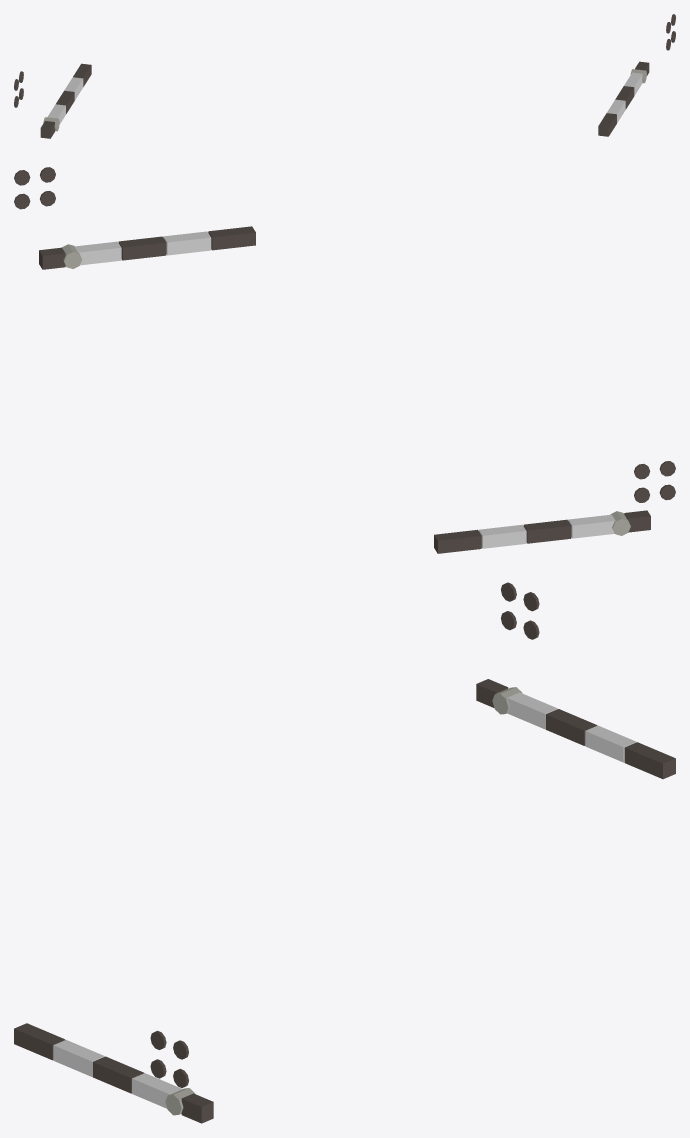
The model's file is SM_PasoNivel_45_v1_FocosDobles_LOD1.fbx.
The picture shows the model from 3 angles, top to bottom: view 1: azimuth 30°, elevation 25°; view 2: azimuth 150°, elevation 25°; view 3: azimuth 270°, elevation 25°; orthographic projection. The views are drawn at different scales.
Parts seen in each view (by area): view 1: Barrera_1, Barrera_2, Luces_B; view 2: Barrera_2, Barrera_1, Luces_B, Luces_A; view 3: Barrera_1, Barrera_2, Luces_B, Luces_A.
Part boxes in pixels (box(x1,y1,x2,y2)): Barrera_1: box(598, 61, 649, 136); Barrera_2: box(40, 63, 91, 138); Luces_B: box(19, 14, 675, 99); Barrera_2: box(434, 510, 650, 553); Barrera_1: box(39, 226, 255, 269); Luces_B: box(14, 170, 650, 502); Luces_A: box(40, 167, 675, 500); Barrera_1: box(14, 1023, 213, 1123); Barrera_2: box(476, 679, 675, 779); Luces_B: box(173, 592, 539, 1087); Luces_A: box(150, 582, 516, 1078).
Size of what is drawn, in the model's own units: 19.26 by 1.91 by 11.6.
